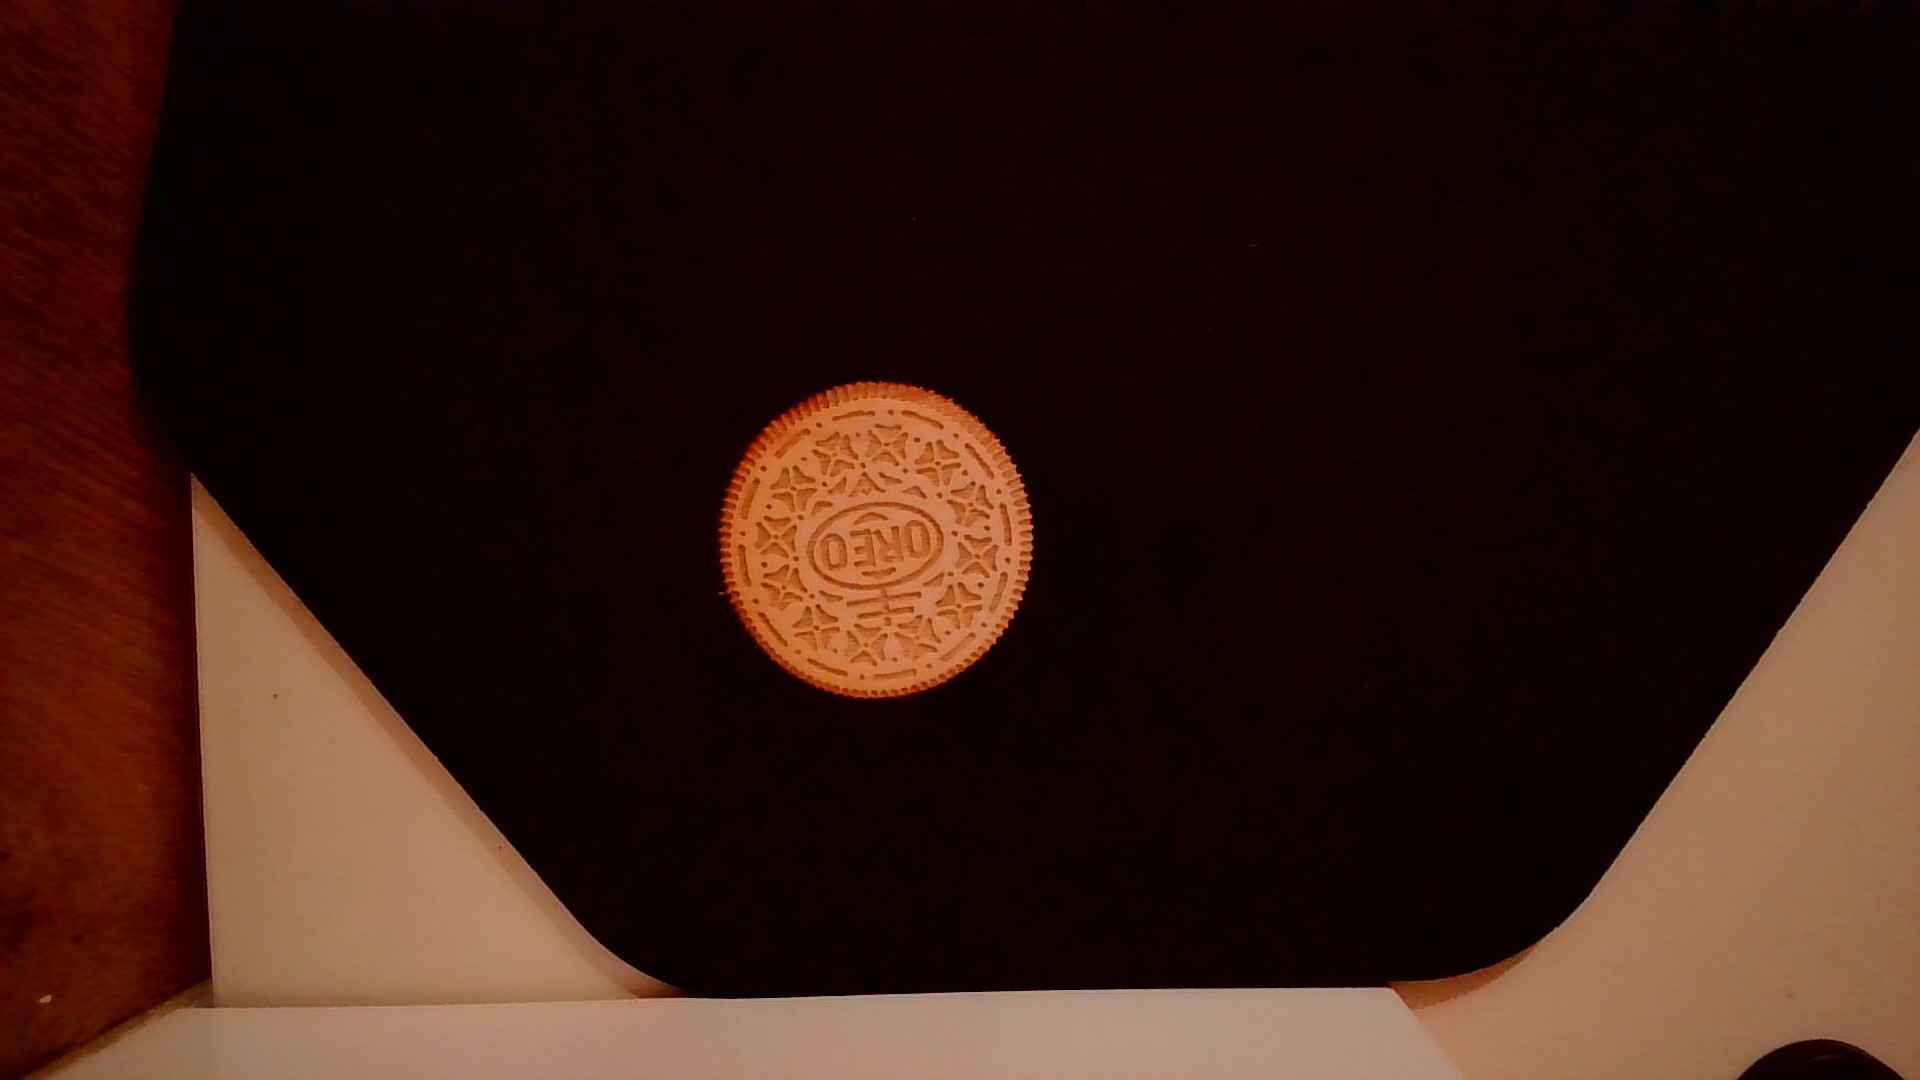Oréo: (705, 372, 1042, 705)
